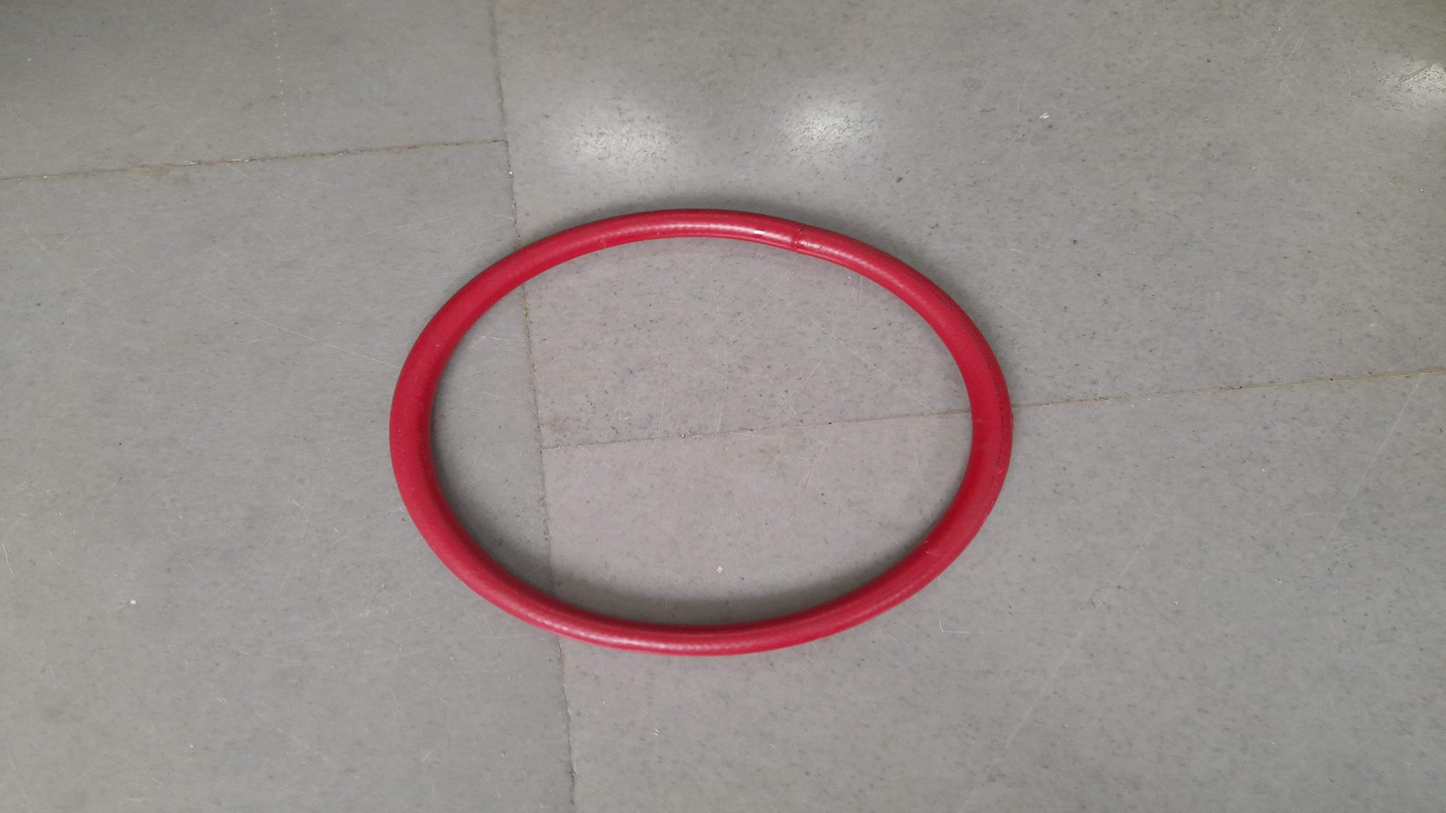Red ring: (389, 205, 1014, 659)
